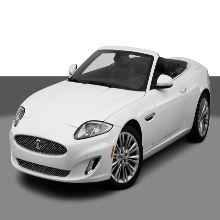no damage: (9, 46, 212, 186)
